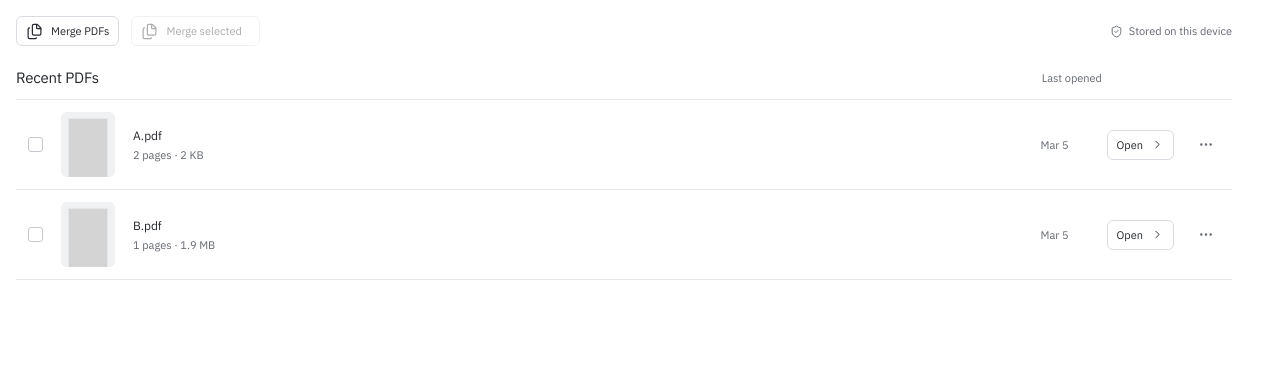
Test case: context menu › Remove from recents removes the row and touches no platform file API
Check: the text "A.pdf" is shown, box [133,128,162,142]
Step 1. Click the button named "More actions for A.pdf" → (1206, 144), box [1192,130,1220,158]
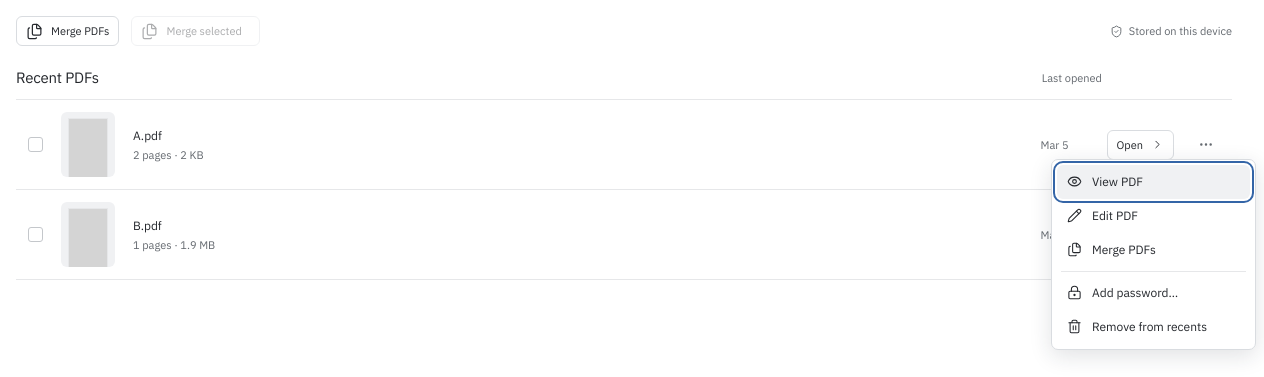
Step 2. Click the menu item "Remove from recents" → (1154, 326), box [1057,310,1250,344]
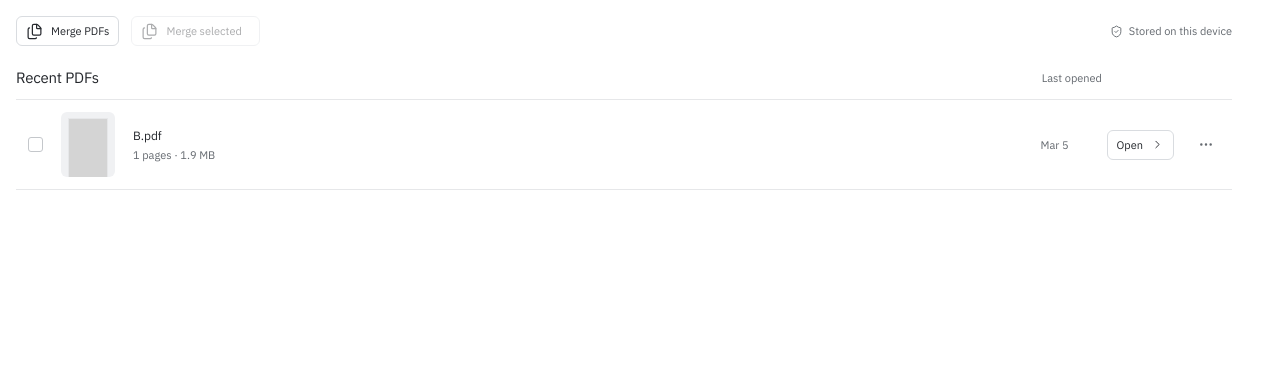
Check: the text "B.pdf" is shown, box [133,128,162,142]
Check: the button "A.pdf" is gone
